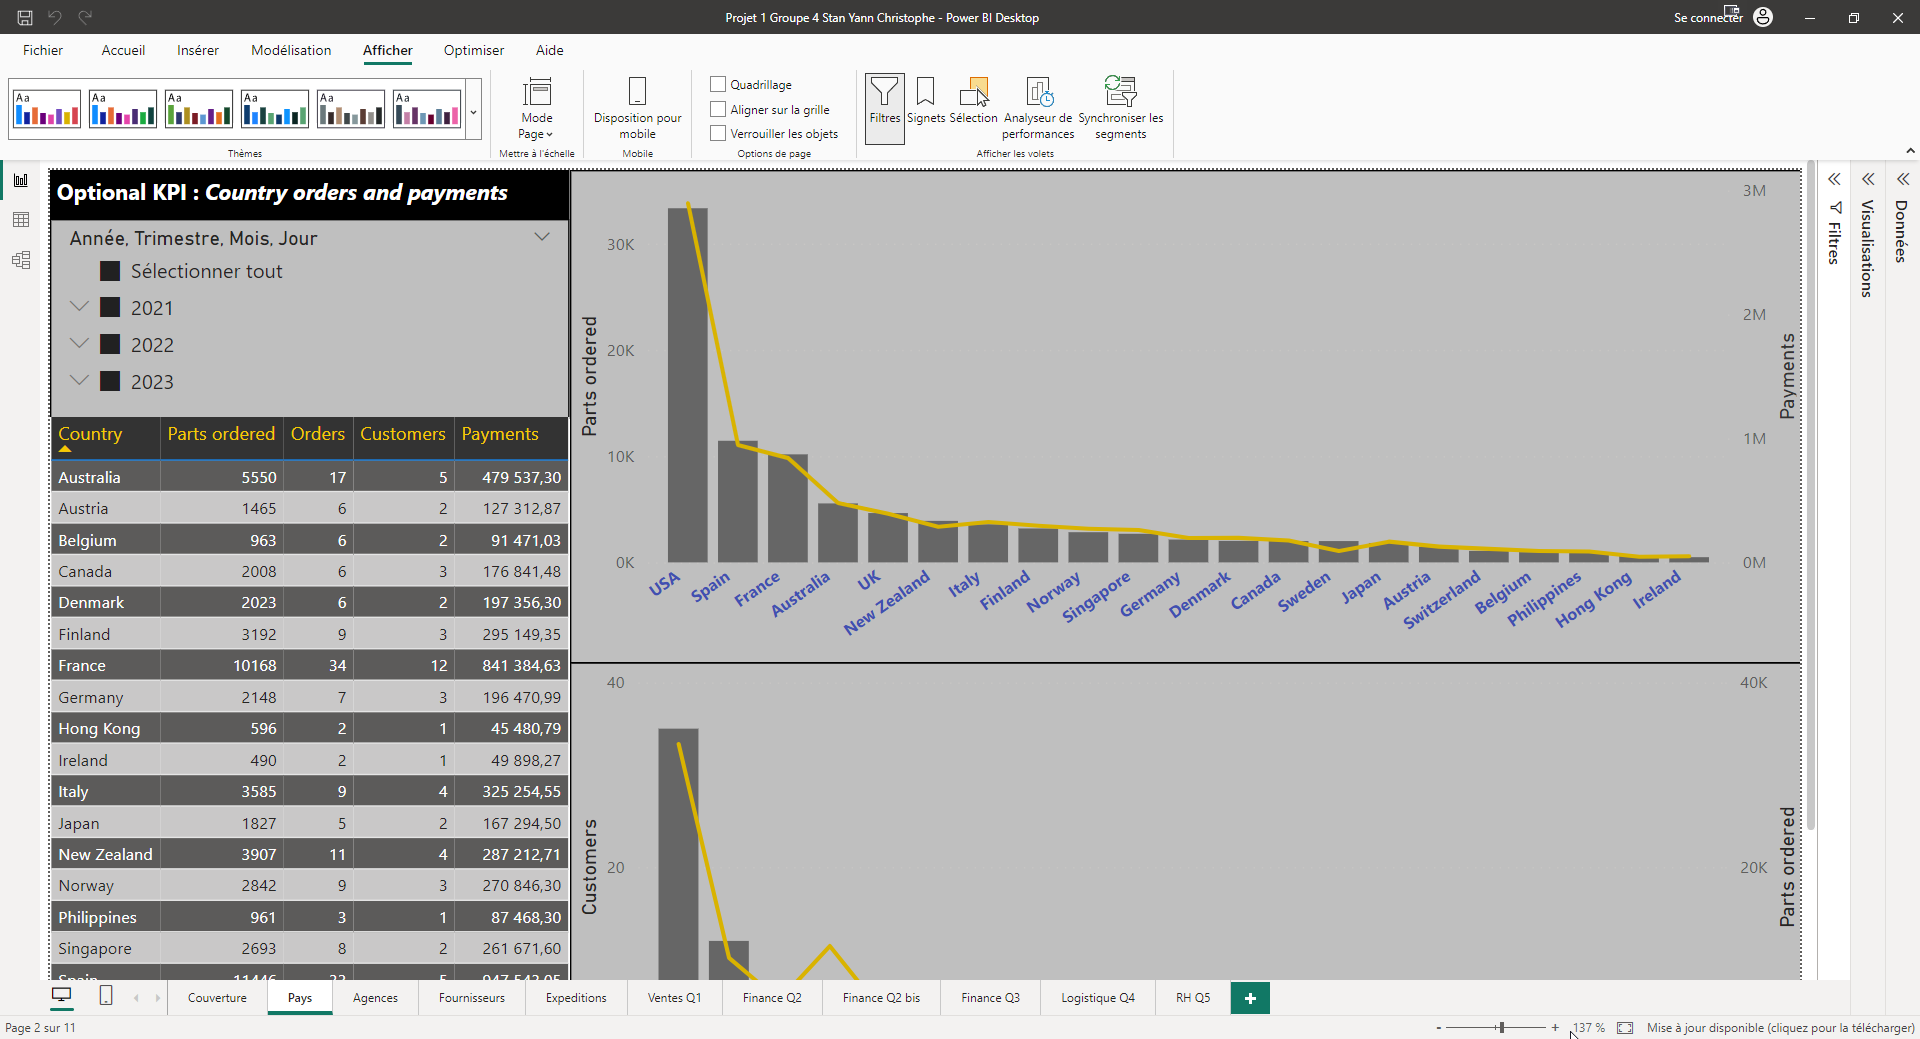

The page's visual inventory and layout, read from the dashboard file:
{"tool":"powerbi","page":{"name":"Pays","canvas":[1280,720],"ordinal":1},"visuals":[{"type":"slicer","fields":{"Values":["toys_and_models orders.orderDate.Variation.Hiérarchie de dates.Année","toys_and_models orders.orderDate.Variation.Hiérarchie de dates.Trimestre","toys_and_models orders.orderDate.Variation.Hiérarchie de dates.Mois","toys_and_models orders.orderDate.Variation.Hiérarchie de dates.Jour"]},"box":[0,35.6,380,145.6],"z":0},{"type":"tableEx","fields":{"Values":["toys_and_models pays.country","Sum(toys_and_models orderdetails.quantityOrdered)","toys_and_models orderdetails.orderNumber","toys_and_models orders.customerNumber","Sum(toys_and_models payments.amount)"]},"box":[0,180.7,380,537.9],"z":1000},{"type":"lineStackedColumnComboChart","fields":{"Category":["toys_and_models pays.country"],"Y":["Count(toys_and_models orders.customerNumber)"],"Y2":["Sum(toys_and_models orderdetails.quantityOrdered)"]},"box":[380,360,901,359],"z":2000},{"type":"lineStackedColumnComboChart","fields":{"Category":["toys_and_models pays.country"],"Y":["Sum(toys_and_models orderdetails.quantityOrdered)"],"Y2":["Sum(toys_and_models payments.amount)"]},"box":[380,0,901,361],"z":3000},{"type":"textbox","box":[0,0,380,35.6],"z":4000}]}

Visuals, with their boxes on the page's 1280x720 design canvas (x1, y1, x2, y2). These are canvas units, not pixel positions in the 1920x1039 screenshot, which may show the page scaled, cropped or inside an application window:
slicer - toys_and_models orders.orderDate.Variation.Hiérarchie de dates.Année x toys_and_models orders.orderDate.Variation.Hiérarchie de dates.Trimestre: {"left": 0, "top": 36, "right": 380, "bottom": 181}
tableEx - toys_and_models pays.country x Sum(toys_and_models orderdetails.quantityOrdered): {"left": 0, "top": 181, "right": 380, "bottom": 719}
lineStackedColumnComboChart - toys_and_models pays.country x Count(toys_and_models orders.customerNumber): {"left": 380, "top": 360, "right": 1281, "bottom": 719}
lineStackedColumnComboChart - toys_and_models pays.country x Sum(toys_and_models orderdetails.quantityOrdered): {"left": 380, "top": 0, "right": 1281, "bottom": 361}
textbox: {"left": 0, "top": 0, "right": 380, "bottom": 36}
